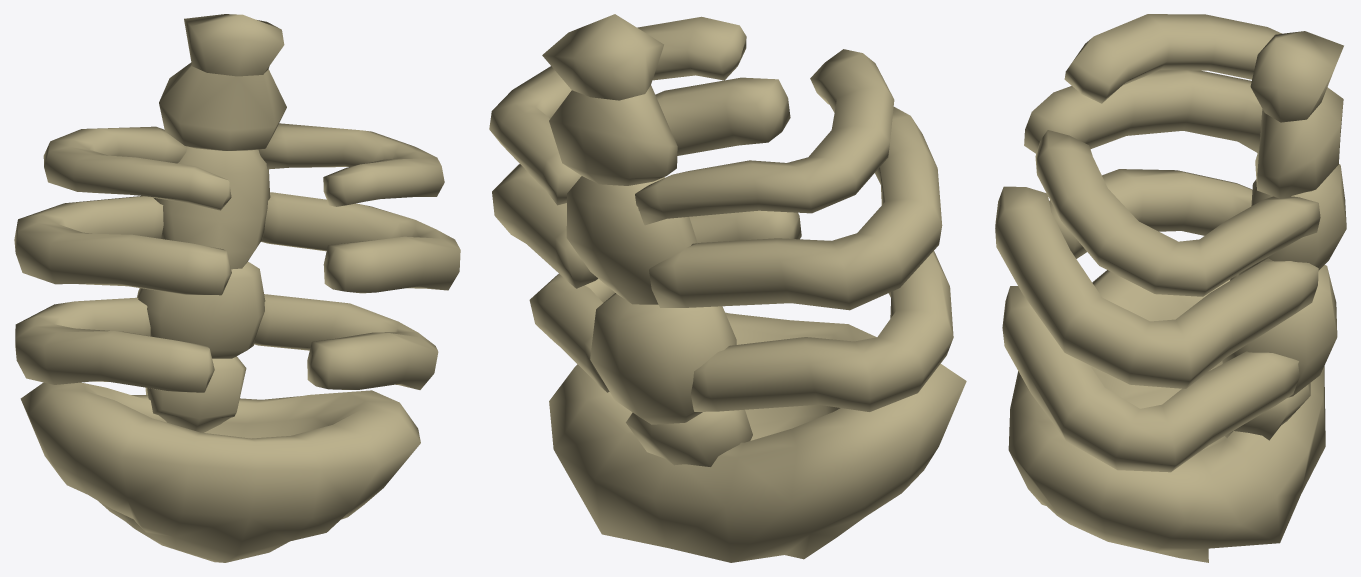
The picture shows the model from 3 angles, left to right: view 1: azimuth 30°, elevation 25°; view 2: azimuth 150°, elevation 25°; view 3: azimuth 270°, elevation 25°; orthographic projection. The views are drawn at different scales.
Visible parts, largest first — view 1: body_torso.001; view 2: body_torso.001; view 3: body_torso.001.
Boxes of the visible parts, left/top/right/bottom form: body_torso.001: left=14, top=14, right=460, bottom=562; body_torso.001: left=489, top=14, right=966, bottom=562; body_torso.001: left=995, top=14, right=1346, bottom=562.
Bounding box in the file's own units: 51.13 × 58.5 × 35.8.
